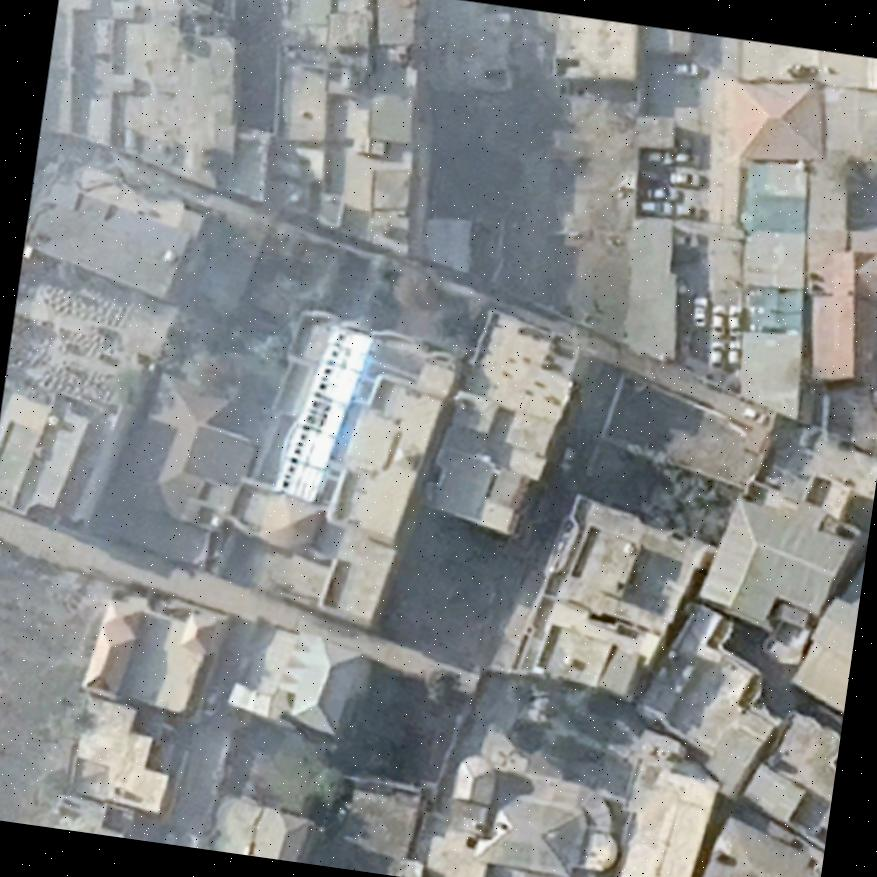Solarpanel: (271, 316, 378, 510)
